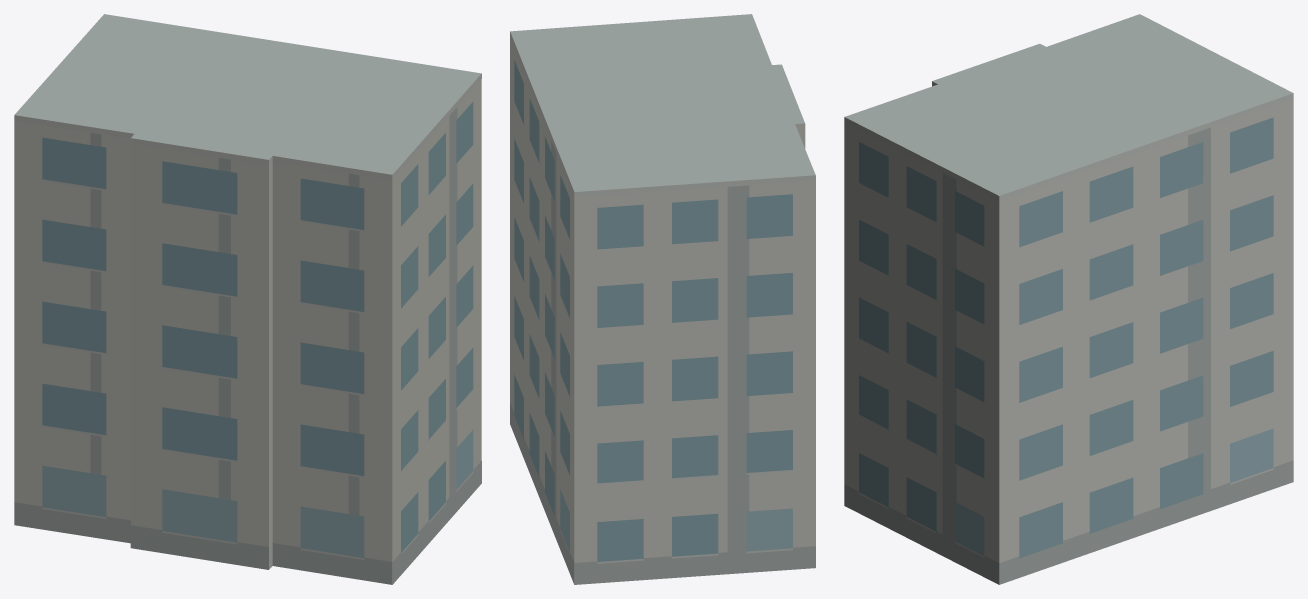
Rendered from survey-upis-32827358.glb.
3 views of the same model, side by side, from view 1: azimuth 30°, elevation 25°; view 2: azimuth 150°, elevation 25°; view 3: azimuth 270°, elevation 25° (orthographic). The views are drawn at different scales.
Parts seen in each view (by area): view 1: survey-upis-32827358.tmp; view 2: survey-upis-32827358.tmp; view 3: survey-upis-32827358.tmp.
Part boxes in pixels (<box>): survey-upis-32827358.tmp: <box>14,14,481,584</box>; survey-upis-32827358.tmp: <box>510,14,815,584</box>; survey-upis-32827358.tmp: <box>844,14,1293,584</box>.
Bounding box in the file's own units: 17.42 × 17.35 × 18.17.
